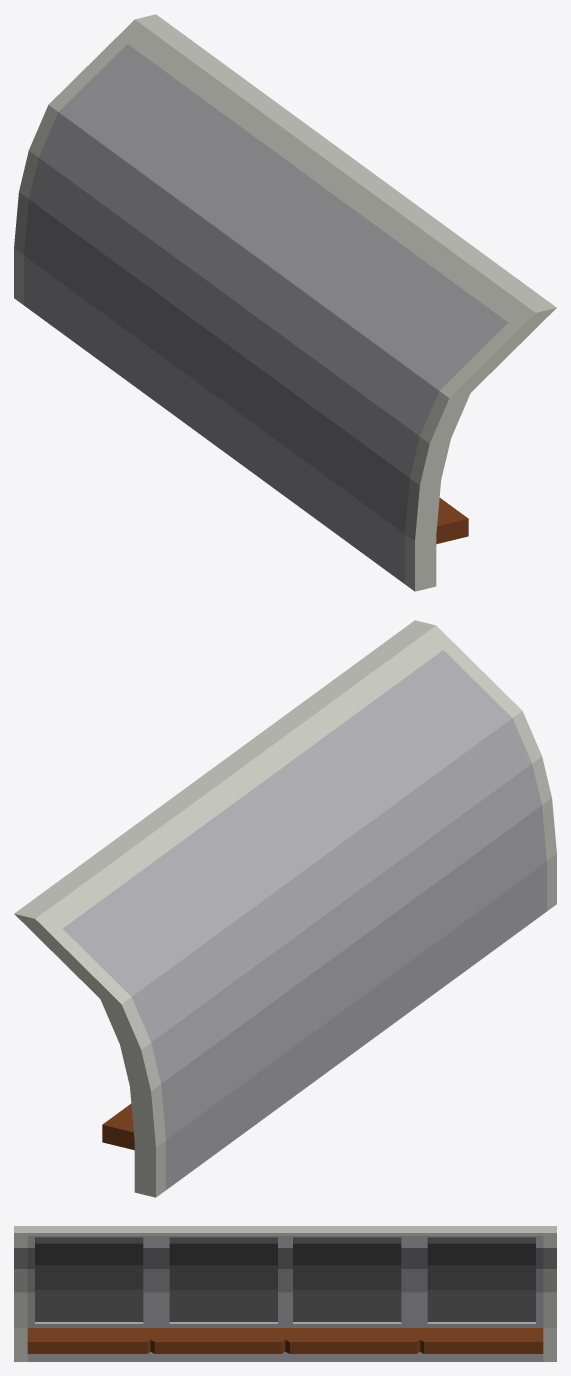
Rendered from Assento Jogadores.fbx.
3 renders of one model, top to bottom at view 1: azimuth 30°, elevation 25°; view 2: azimuth 150°, elevation 25°; view 3: azimuth 270°, elevation 25°, orthographic. The views are drawn at different scales.
Visible parts, largest first — view 1: Assento Jogadores; view 2: Assento Jogadores; view 3: Assento Jogadores.
Part boxes in pixels (bbox=[...]): Assento Jogadores: bbox=[14, 14, 556, 591]; Assento Jogadores: bbox=[14, 620, 556, 1197]; Assento Jogadores: bbox=[14, 1226, 556, 1361].
Bounding box in the file's own units: 401 × 672 × 1960.
